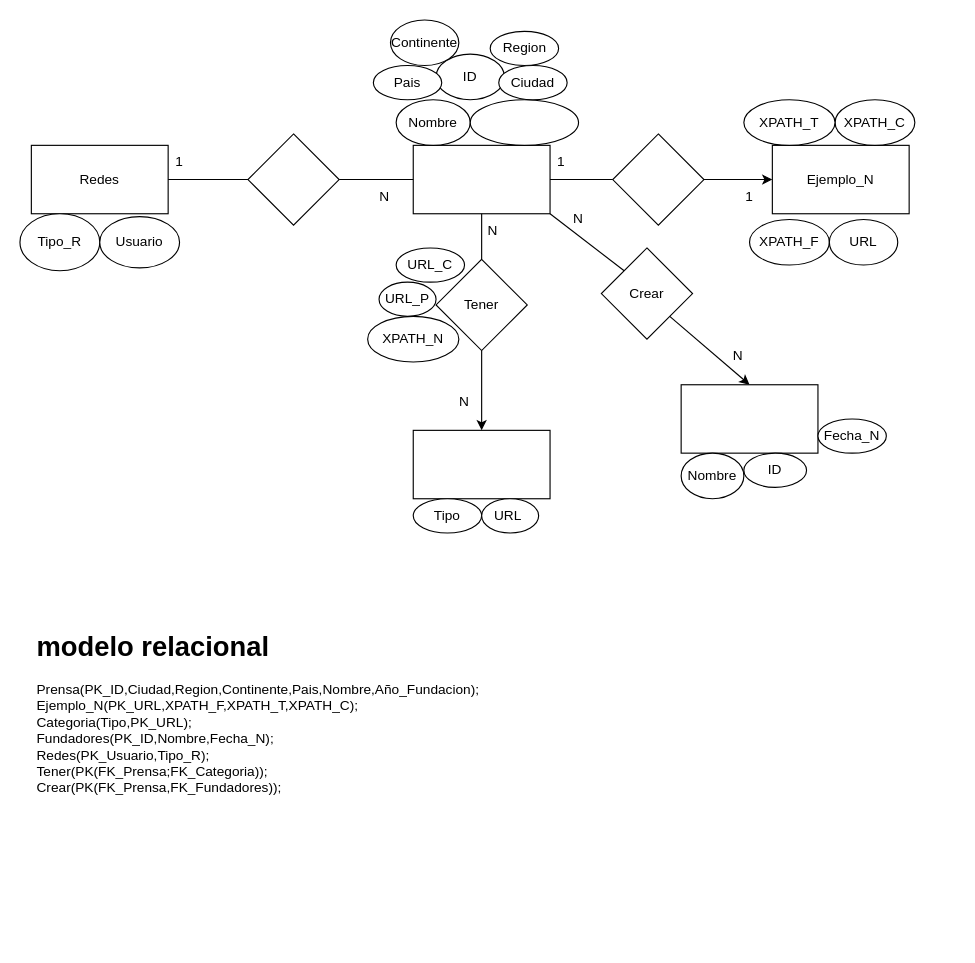
The diagram is 975 pixels wide and 963 high, and some of its shapes have lost their labels. The centre of each missing label's shape, as x and y in pixels:
"Año_Fundacion" belongs at point 524,122.
"Categoria" belongs at point 481,464.
"Fundadores" belongs at point 749,418.
"Manejar" belongs at point 293,179.
"Obtener" belongs at point 658,179.
"Prensa" belongs at point 481,179.
